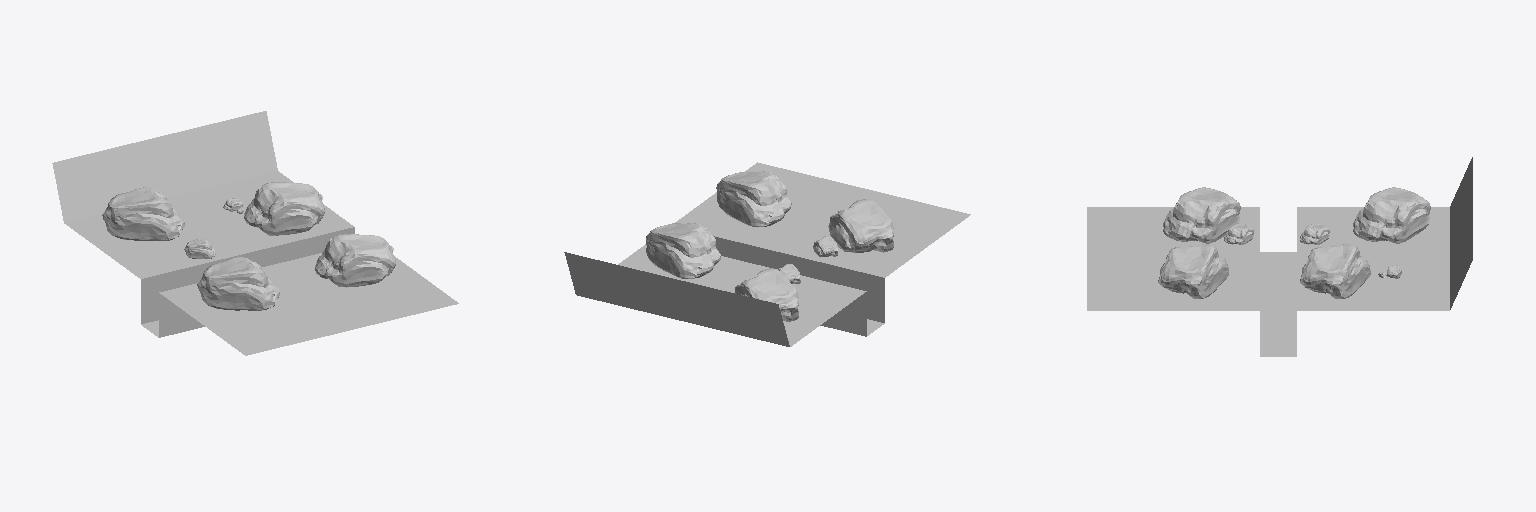
File: escenario_lava.obj
3 renders of one model, left to right at view 1: azimuth 30°, elevation 25°; view 2: azimuth 150°, elevation 25°; view 3: azimuth 270°, elevation 25°, orthographic.
Visible parts, largest first — view 1: suelo_lava escenario_lava, escenario_lava Rock_18, escenario_lava Rock_16, escenario_lava Rock_23, escenario_lava Rock_17; view 2: suelo_lava escenario_lava, escenario_lava Rock_18, escenario_lava Rock_16, escenario_lava Rock_23, escenario_lava Rock_17; view 3: suelo_lava escenario_lava, escenario_lava Rock_17, escenario_lava Rock_23, escenario_lava Rock_16, escenario_lava Rock_18.
Boxes of the visible parts, x1=… form: suelo_lava escenario_lava: x1=52, y1=111, x2=458, y2=355; escenario_lava Rock_18: x1=244, y1=182, x2=324, y2=235; escenario_lava Rock_16: x1=315, y1=234, x2=395, y2=287; escenario_lava Rock_23: x1=197, y1=257, x2=279, y2=310; escenario_lava Rock_17: x1=102, y1=187, x2=184, y2=240; suelo_lava escenario_lava: x1=564, y1=162, x2=970, y2=346; escenario_lava Rock_18: x1=646, y1=223, x2=720, y2=278; escenario_lava Rock_16: x1=716, y1=171, x2=791, y2=226; escenario_lava Rock_23: x1=828, y1=199, x2=893, y2=252; escenario_lava Rock_17: x1=735, y1=268, x2=798, y2=321; suelo_lava escenario_lava: x1=1087, y1=157, x2=1472, y2=356; escenario_lava Rock_17: x1=1353, y1=187, x2=1430, y2=243; escenario_lava Rock_23: x1=1163, y1=187, x2=1240, y2=243; escenario_lava Rock_16: x1=1158, y1=244, x2=1228, y2=298; escenario_lava Rock_18: x1=1300, y1=244, x2=1370, y2=298.
Size of the model in its own units: 945 by 410 by 1476.